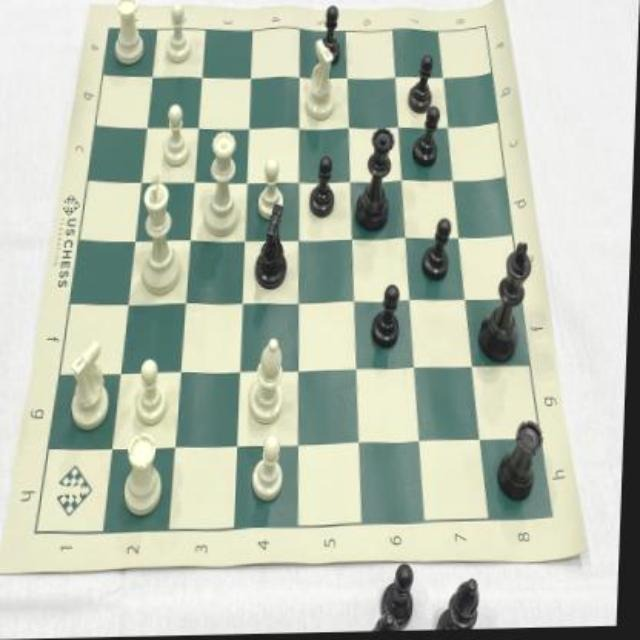black-king: (481, 238, 536, 370)
black-knight: (250, 204, 296, 294)
black-pawn: (369, 281, 410, 357), (306, 148, 342, 223), (421, 218, 456, 287), (410, 101, 443, 171), (406, 50, 438, 120), (317, 2, 347, 71)
black-queen: (354, 124, 400, 237)
black-rook: (497, 417, 550, 509)
white-bishop: (245, 334, 291, 429)
white-king: (136, 170, 188, 302)
white-knight: (66, 336, 116, 434), (299, 32, 343, 128)
white-pawn: (133, 355, 174, 430), (253, 434, 293, 506), (158, 97, 193, 172), (255, 157, 291, 221), (162, 0, 195, 63)
white-queen: (201, 122, 247, 243)
white-rook: (120, 430, 176, 524), (108, 0, 148, 70)
